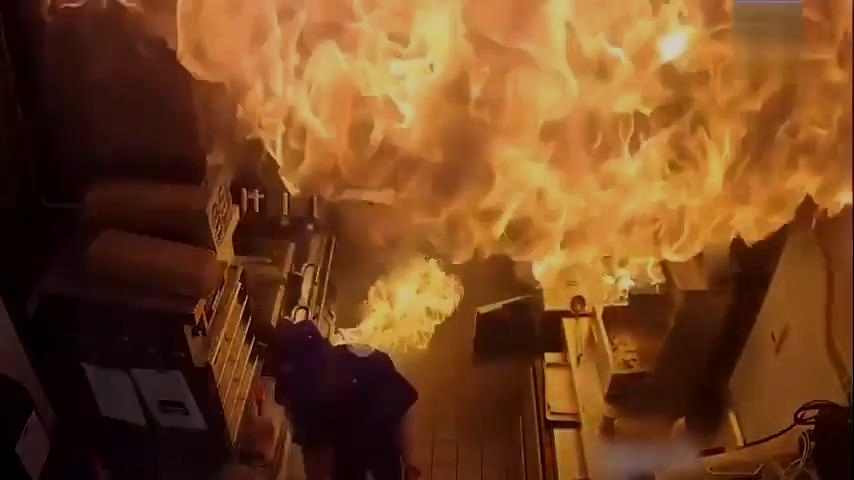fire: (130, 0, 854, 319)
